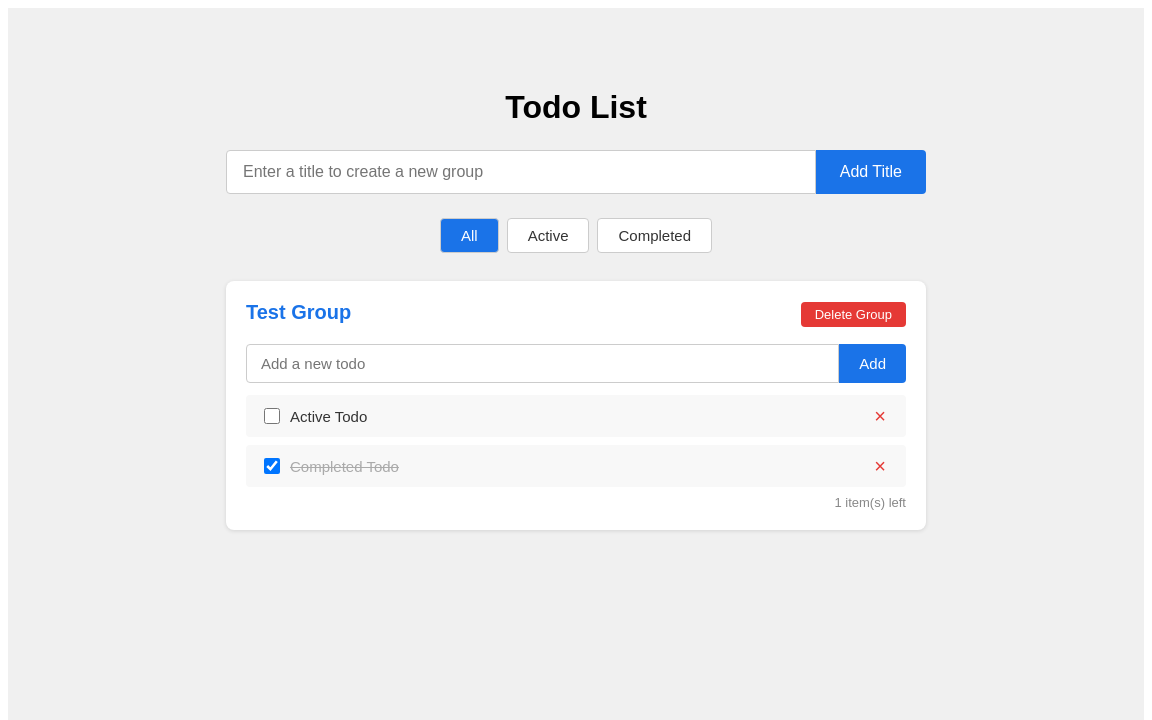
Scenario: Filter functionality › switching back to "All" shows all todos again
Expected: the text "Active Todo" is shown, [290,408,367,425]
Click the button with test id "filter-completed": (655, 236) [598,218,712,253]
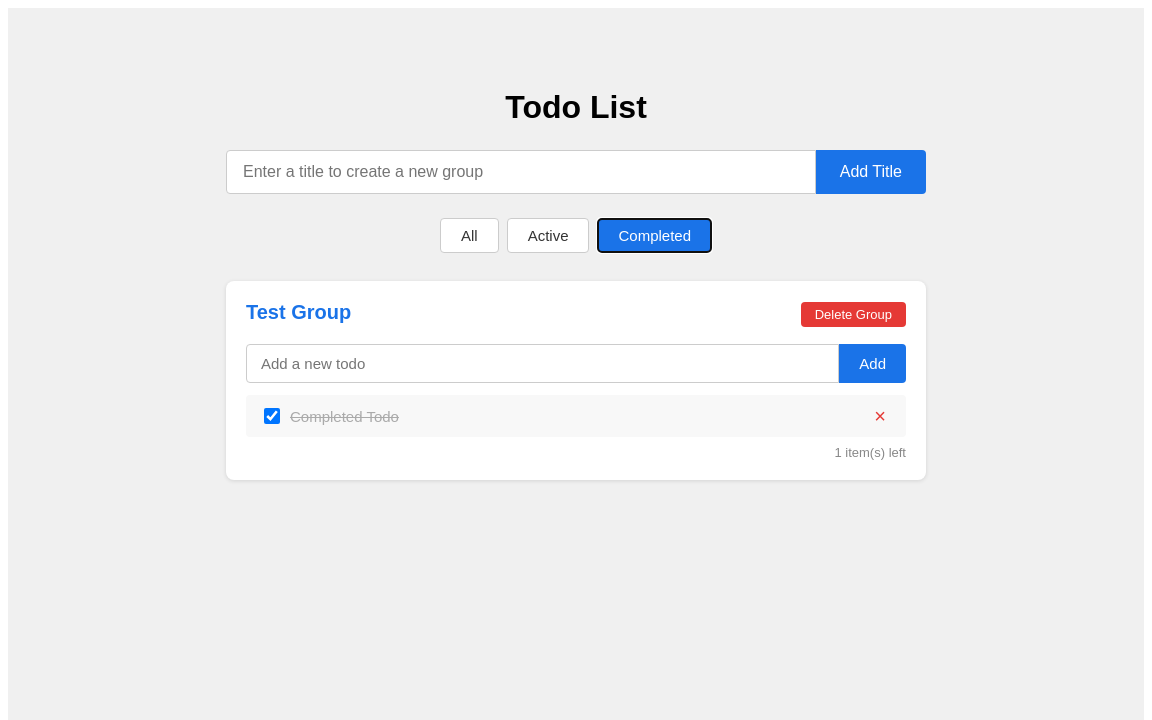
Click the button with test id "filter-all": (469, 236) [440,218,499,253]
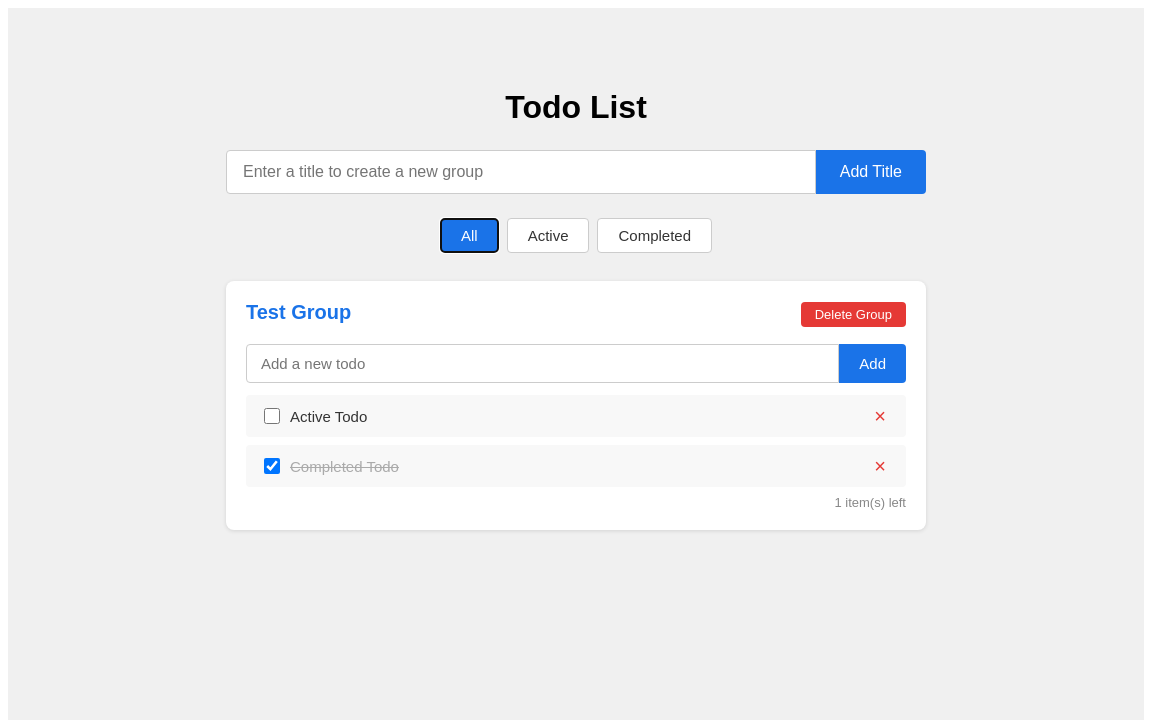
Expected: the text "Completed Todo" is shown, [290,458,399,475]
Now the text "Active Todo" is shown, box [290,408,367,425]
